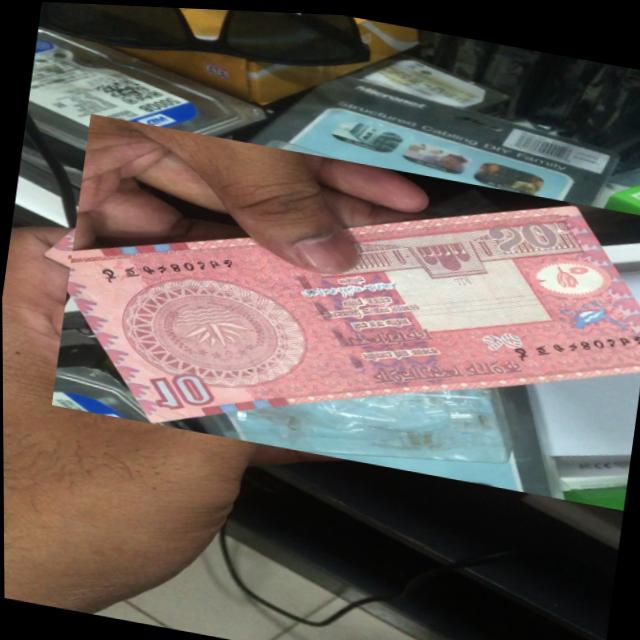Taka: (49, 112, 640, 505)
